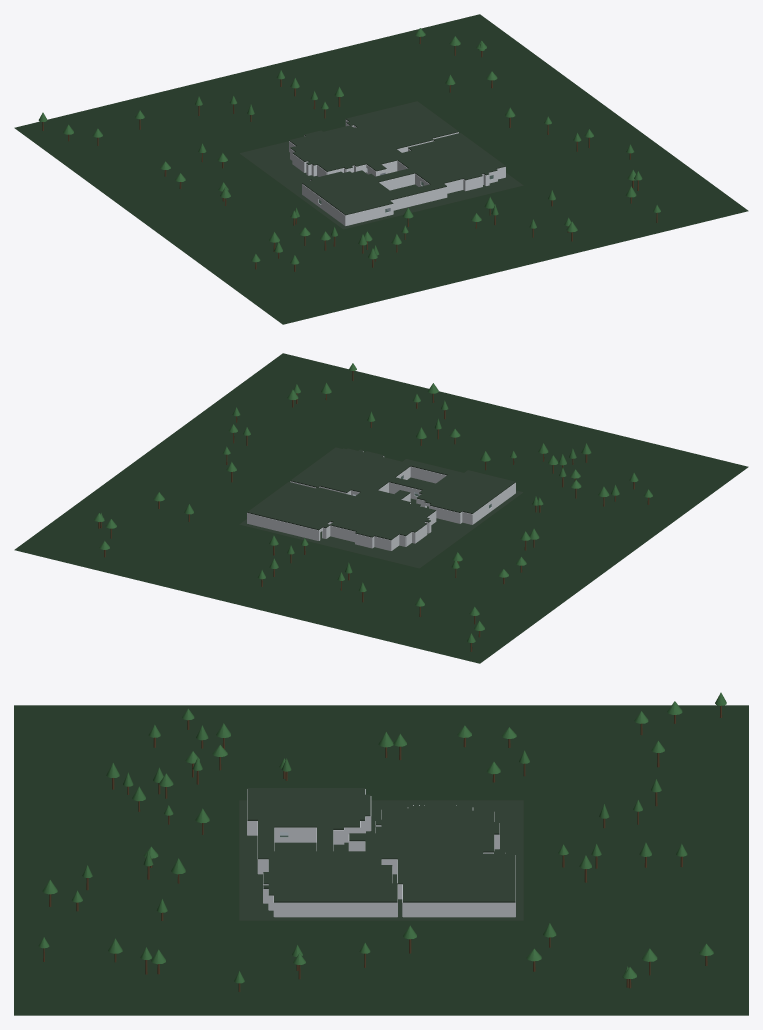
File: level-bighouse.glb
3 renders of one model, top to bottom at view 1: azimuth 30°, elevation 25°; view 2: azimuth 150°, elevation 25°; view 3: azimuth 270°, elevation 25°, orthographic. The views are drawn at different scales.
Visible parts, largest first — view 1: svg-stage; view 2: svg-stage; view 3: svg-stage.
Boxes of the visible parts, x1,y1,x2,y2 form: svg-stage: [14, 14, 748, 324]; svg-stage: [14, 353, 748, 663]; svg-stage: [14, 692, 748, 1015].
Bounding box in the file's own units: 137 × 5.9 × 137.
